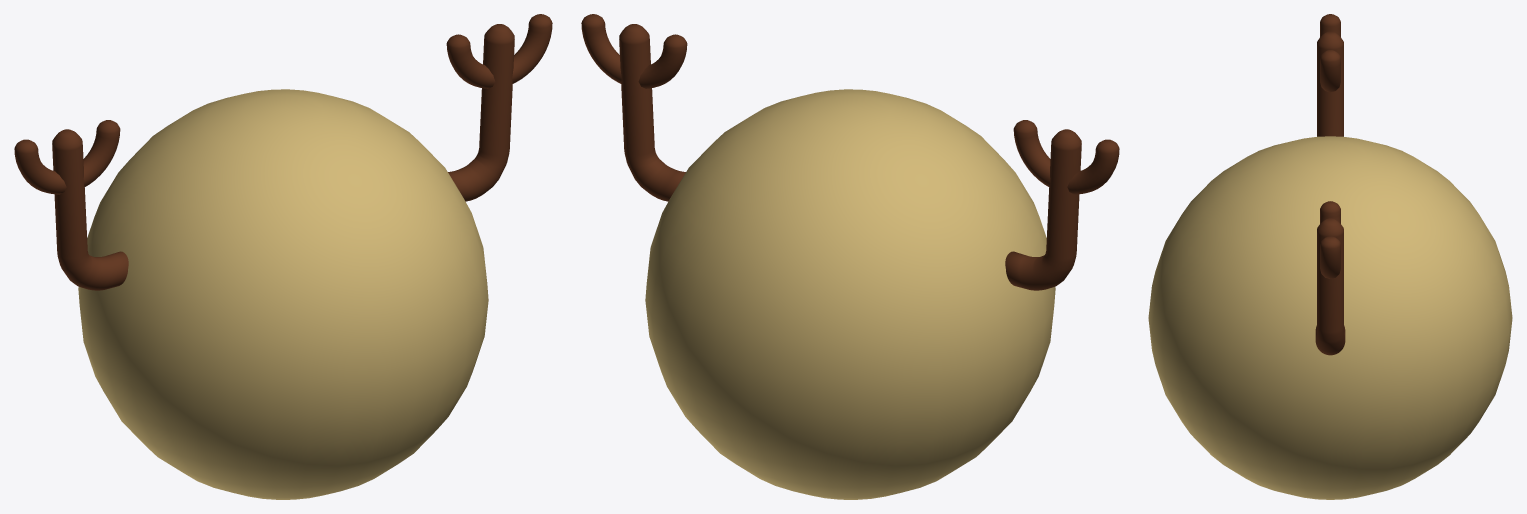
Rendered from ojoooo.fbx.
3 views of the same model, side by side, from view 1: azimuth 30°, elevation 25°; view 2: azimuth 150°, elevation 25°; view 3: azimuth 270°, elevation 25° (orthographic). The views are drawn at different scales.
Visible parts, largest first — view 1: Sphere, Torus; view 2: Sphere, Torus; view 3: Sphere, Torus.
Boxes of the visible parts, x1,y1,x2,y2 form: Sphere: [78, 89, 488, 499]; Torus: [14, 14, 552, 290]; Sphere: [645, 89, 1055, 499]; Torus: [581, 14, 1119, 290]; Sphere: [1148, 136, 1512, 499]; Torus: [1315, 14, 1345, 355].
Bounding box in the file's own units: 300 × 216 × 200.
